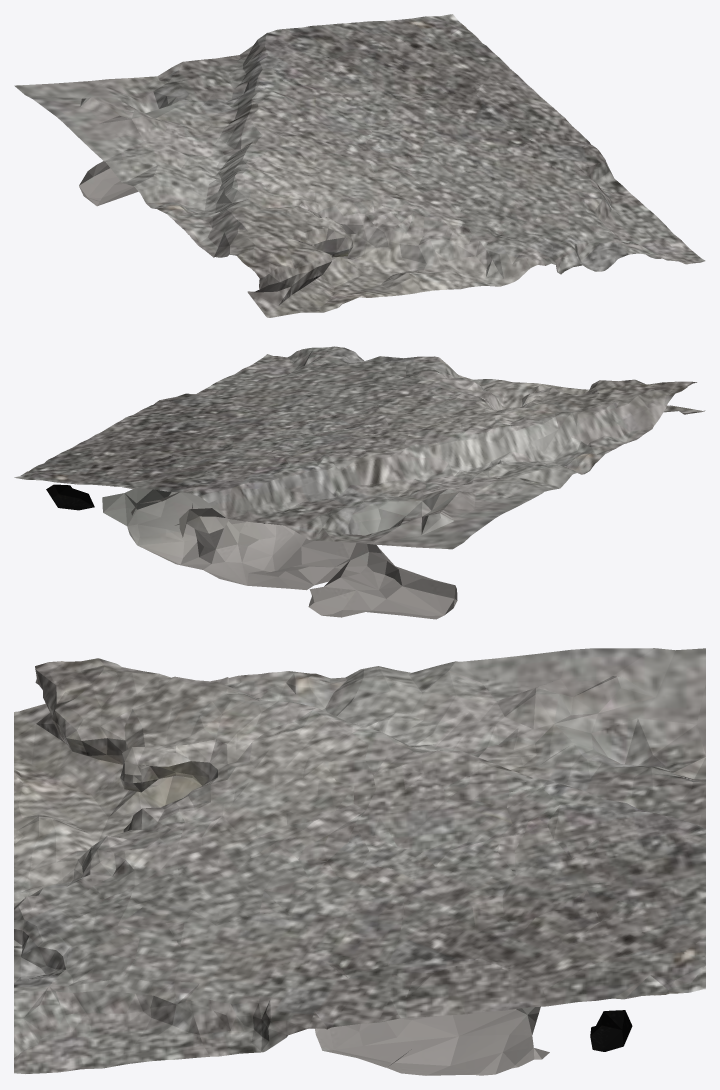
3 renders of one model, top to bottom at view 1: azimuth 30°, elevation 25°; view 2: azimuth 150°, elevation 25°; view 3: azimuth 270°, elevation 25°, orthographic. The views are drawn at different scales.
Size of the model in its own units: 0.8373 by 0.197 by 0.8373.
Materials: 5 (5 with a texture image).
